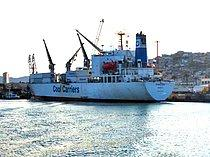Ship: (17, 19, 181, 106)
